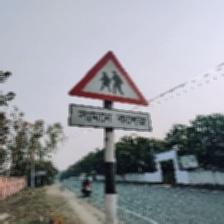College-in-front: (64, 34, 156, 146)
